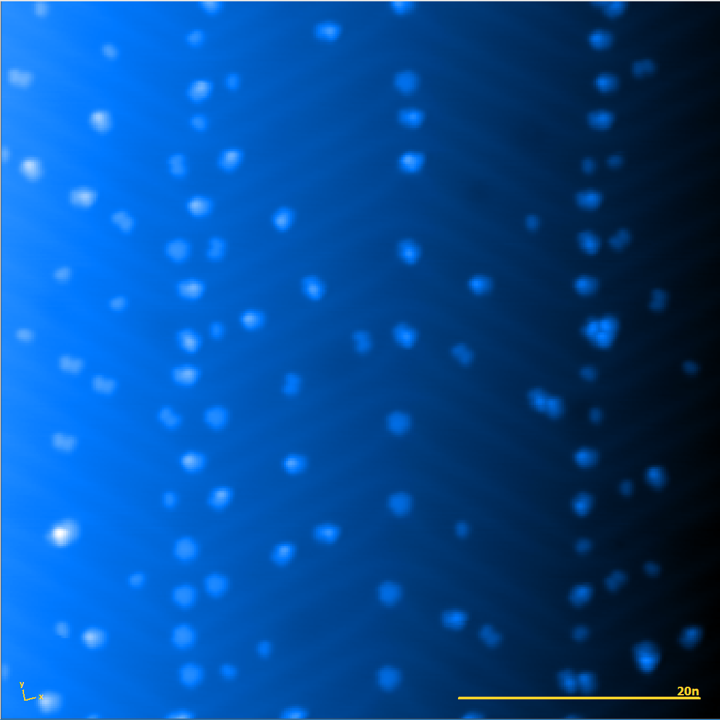M: (163, 237, 192, 265), (376, 664, 404, 693), (376, 579, 404, 608), (387, 491, 415, 518), (385, 410, 413, 437), (172, 535, 199, 562), (394, 69, 420, 96), (172, 583, 197, 610), (179, 661, 204, 688), (204, 572, 229, 598), (171, 623, 196, 649)
